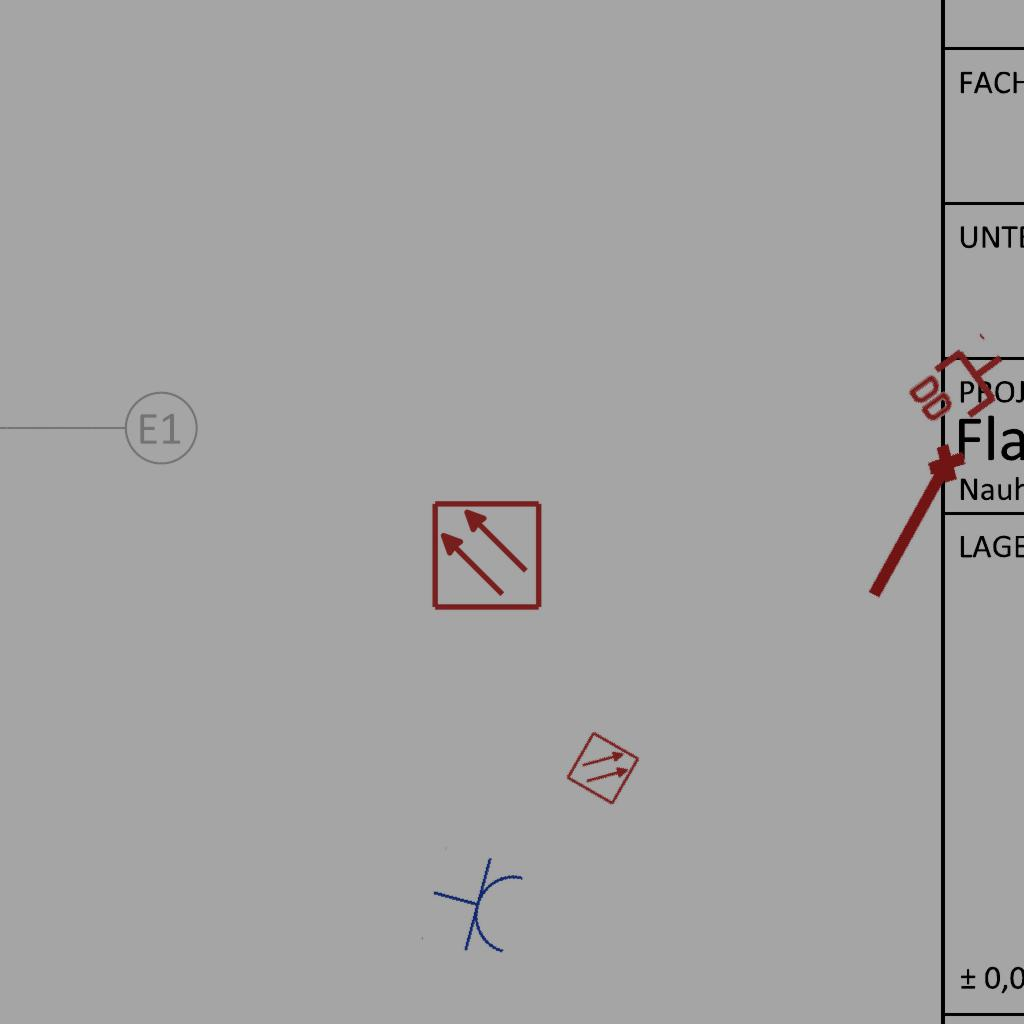ASR_Ansaugoeffnung: (853, 435, 979, 613)
Datenanschluss_zweifach: (900, 329, 1024, 446)
RMO_Rauchmelder_optischer: (430, 499, 543, 612), (564, 729, 642, 807)
Schukosteckdose_einfach: (420, 844, 530, 965)
